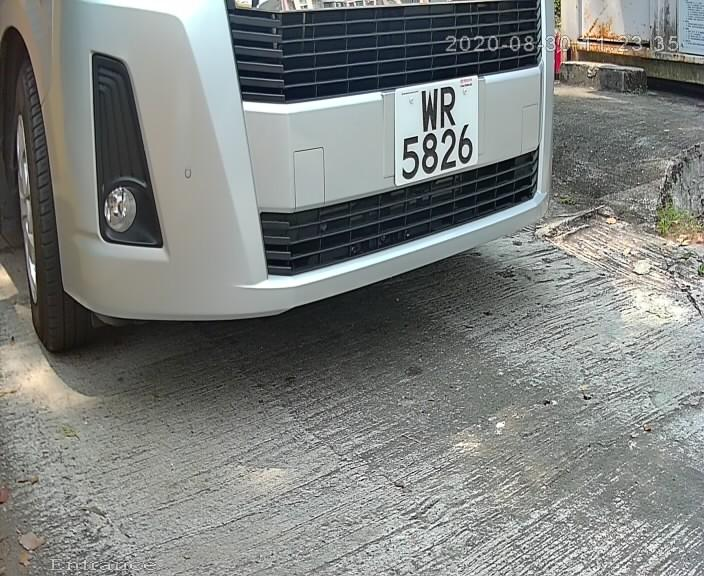License Plate: (381, 67, 491, 206)
